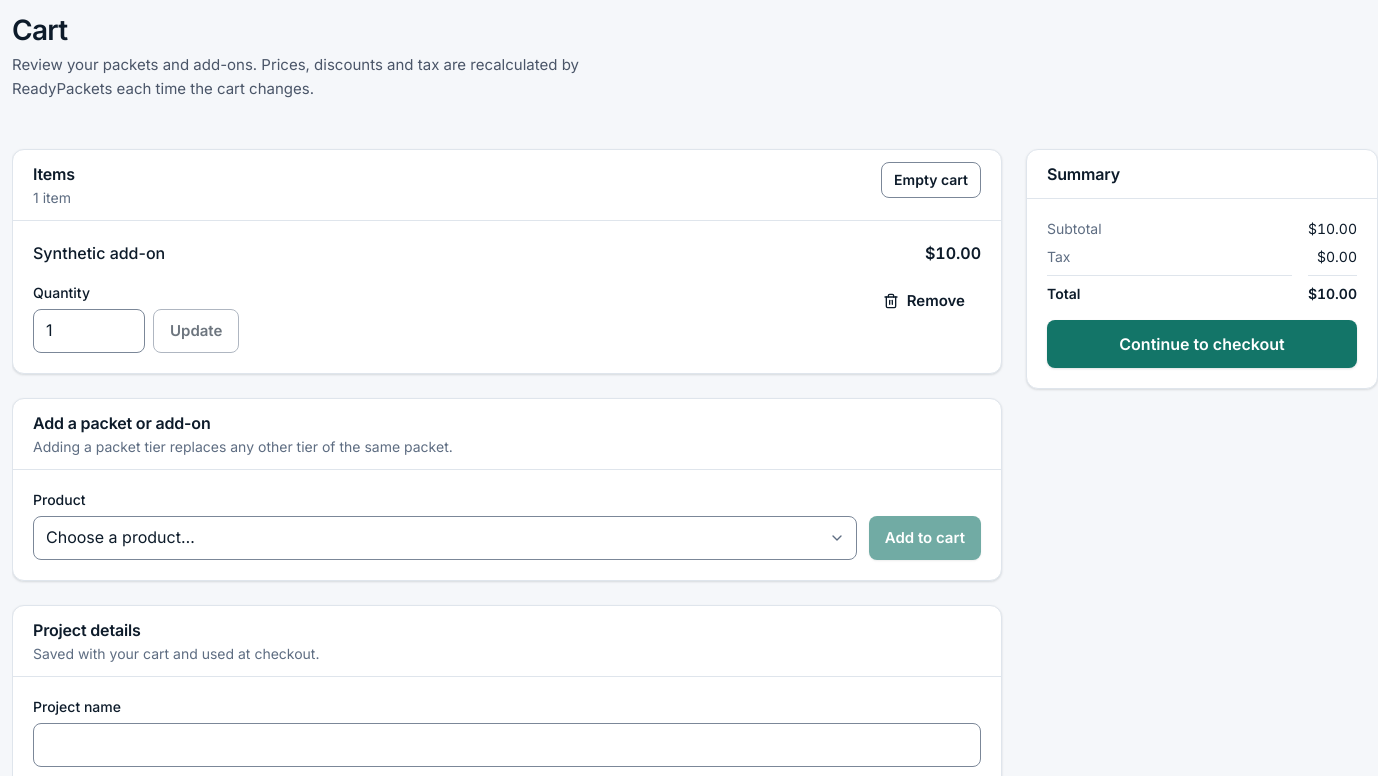
Test: CartPage › removes an item with the cart version and never sends prices
Click the button with aria-label "Remove Synthetic add-on".
click(924, 301)  # box [867,279,981,323]
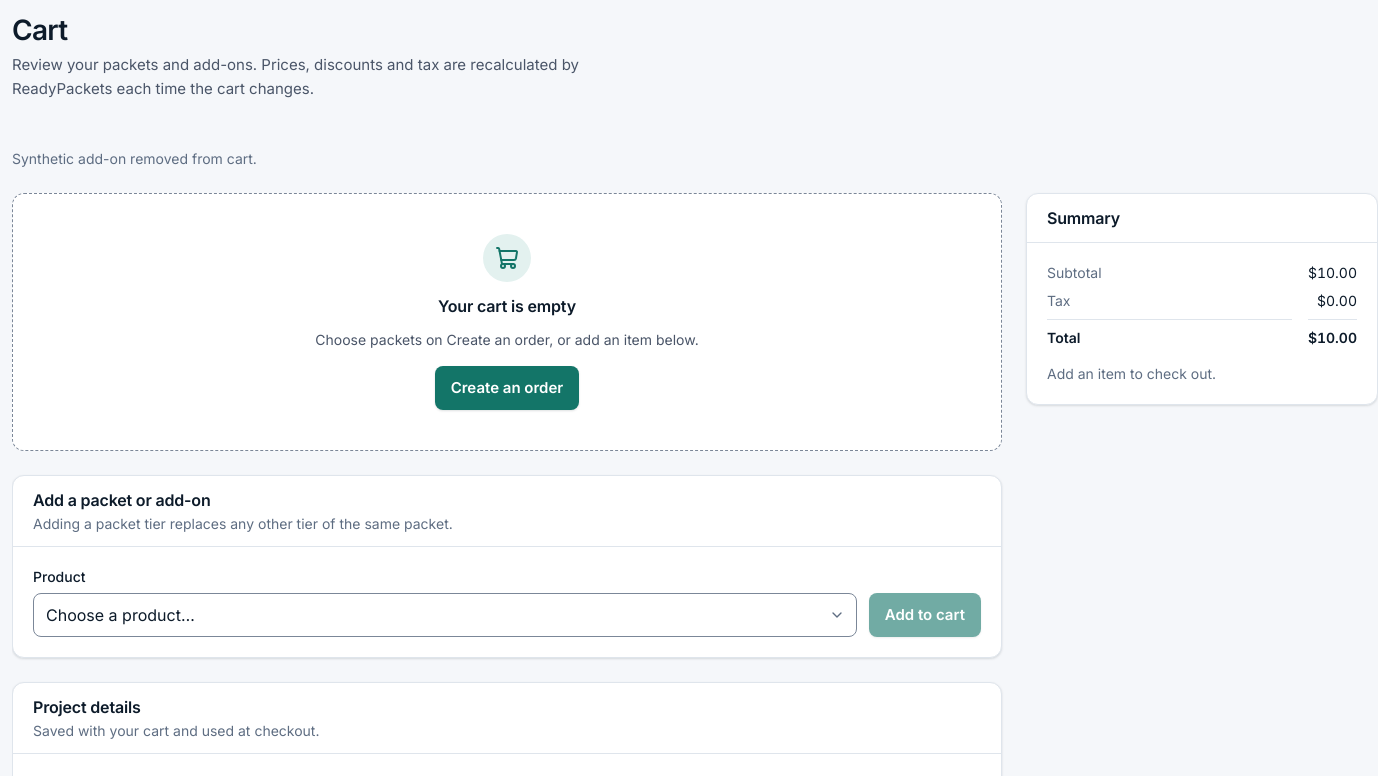
expect the heading "Your cart is empty" is shown: met, box [438,294,576,318]
